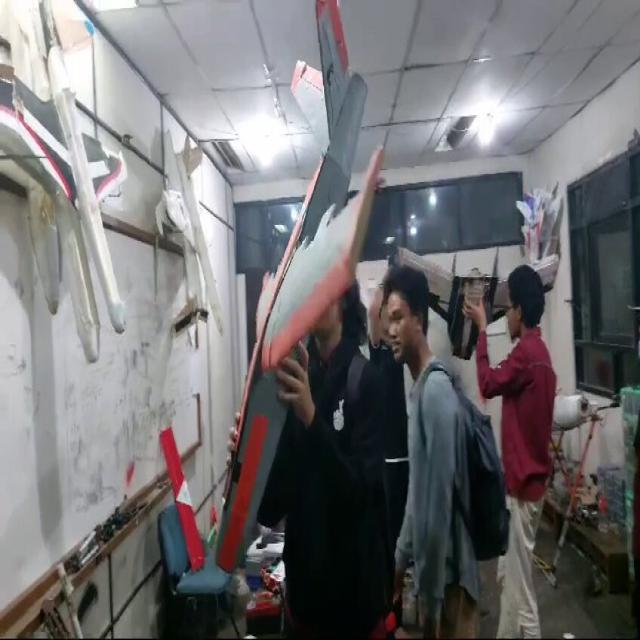plane: (190, 0, 406, 610)
